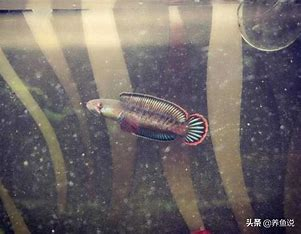Fish: (68, 75, 213, 150)
